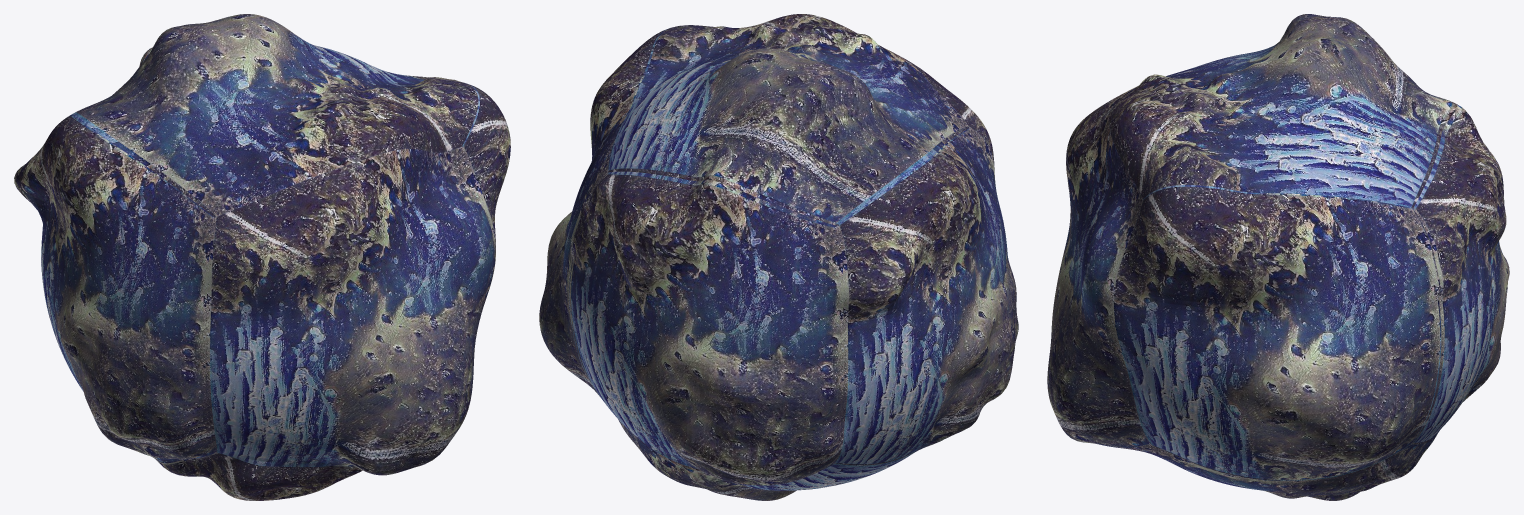
The model's file is not_metal.gltf.
3 views of the same model, side by side, from view 1: azimuth 30°, elevation 25°; view 2: azimuth 150°, elevation 25°; view 3: azimuth 270°, elevation 25° (orthographic).
Parts seen in each view (by area): view 1: Cube; view 2: Cube; view 3: Cube.
Boxes of the visible parts, bbox=[...] form: Cube: bbox=[14, 14, 510, 500]; Cube: bbox=[539, 14, 1018, 500]; Cube: bbox=[1047, 14, 1509, 500].
Bounding box in the file's own units: 1.89 × 1.89 × 1.79.
Materials: 1 (1 with a texture image).
